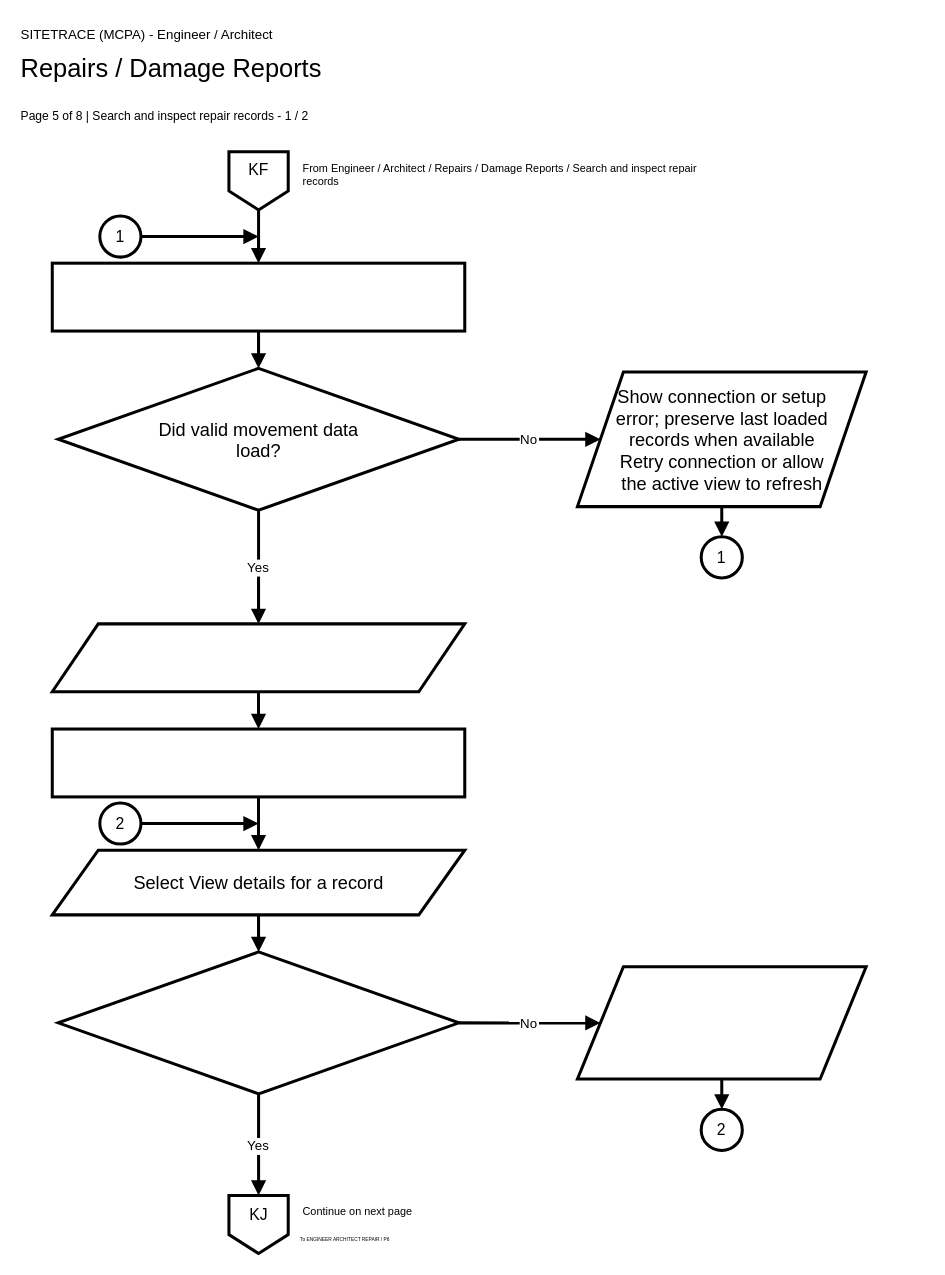
This 945x1275 diagram has some shape labels left out. The centre of each missing label's shape, as x and y in pixels:
"Filter loaded authorized records; sort newest first" belongs at pixel 258 762.
"Is the record still authorized and available?" belongs at pixel 258 1022.
"Load authorized records using mcpa_movement_snapshot" belongs at pixel 258 296.
"Search reference, equipment, project or person; choose a status filter" belongs at pixel 258 657.
"Show record unavailable or access denied Refresh and choose an authorized record" belongs at pixel 721 1022.
